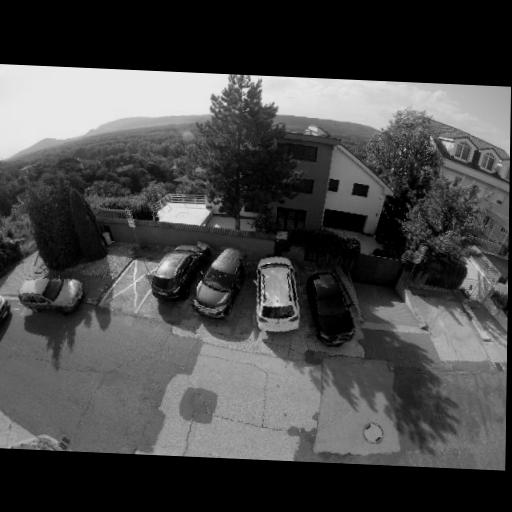busy: (244, 250, 308, 341), (298, 262, 360, 349), (186, 241, 249, 321), (15, 270, 86, 317), (145, 244, 197, 301)
free: (431, 307, 470, 349), (121, 272, 148, 301)
